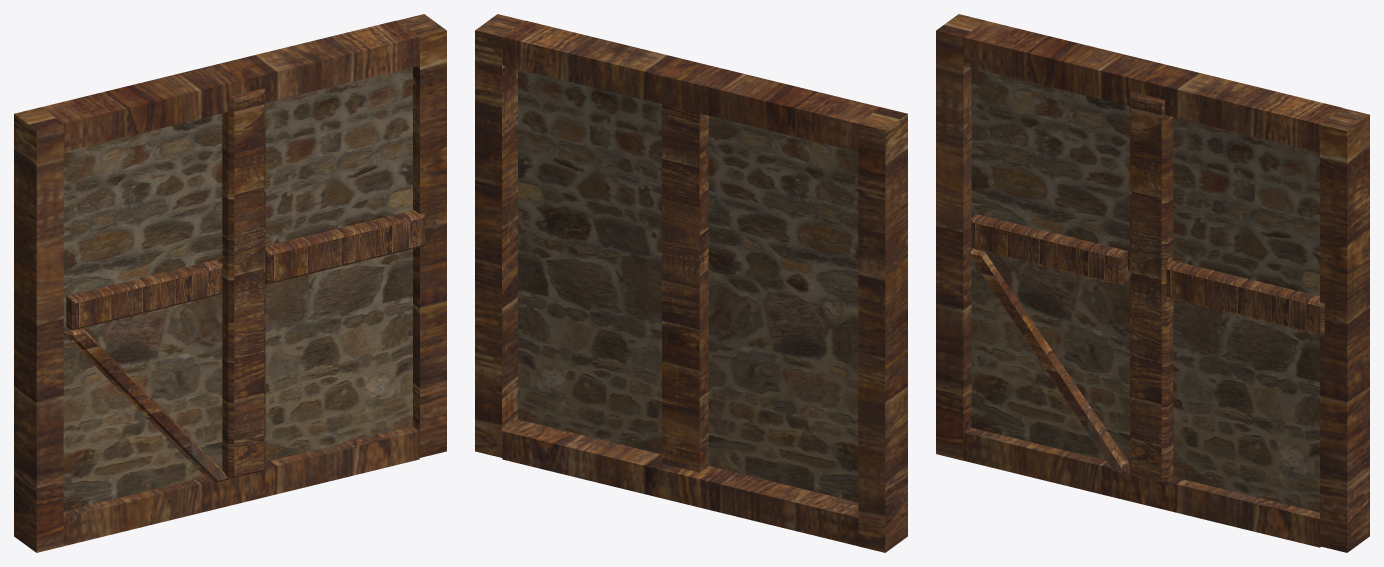
Rendered from BuildingWallTile2.fbx.
3 renders of one model, left to right at view 1: azimuth 30°, elevation 25°; view 2: azimuth 150°, elevation 25°; view 3: azimuth 330°, elevation 25°, orthographic.
Parts seen in each view (by area): view 1: polySurface142; view 2: polySurface142; view 3: polySurface142.
Boxes of the visible parts, x1,y1,x2,y2 form: polySurface142: [14, 14, 446, 552]; polySurface142: [475, 14, 907, 552]; polySurface142: [936, 14, 1369, 552].
Size of the model in its own units: 3.7 by 3.65 by 0.3924.
Materials: 1 (1 with a texture image).
